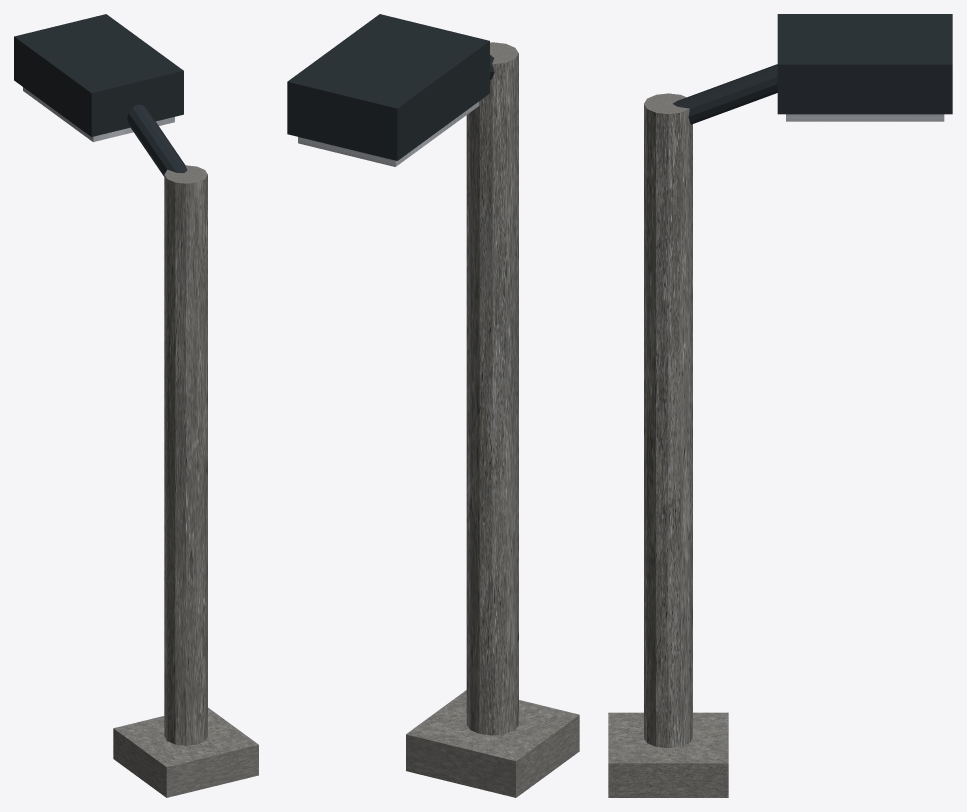
File: faro.obj
3 views of the same model, side by side, from view 1: azimuth 30°, elevation 25°; view 2: azimuth 150°, elevation 25°; view 3: azimuth 270°, elevation 25° (orthographic). The views are drawn at different scales.
Parts seen in each view (by area): view 1: Base_y_poste_concreto, Brazo_y_carcasa, Lente_vidrio_prismatico; view 2: Base_y_poste_concreto, Brazo_y_carcasa, Lente_vidrio_prismatico; view 3: Base_y_poste_concreto, Brazo_y_carcasa, Lente_vidrio_prismatico.
Part boxes in pixels (x1=…): Base_y_poste_concreto: x1=113, y1=165, x2=258, y2=797; Brazo_y_carcasa: x1=14, y1=14, x2=187, y2=176; Lente_vidrio_prismatico: x1=23, y1=87, x2=174, y2=141; Base_y_poste_concreto: x1=406, y1=42, x2=579, y2=797; Brazo_y_carcasa: x1=287, y1=14, x2=494, y2=160; Lente_vidrio_prismatico: x1=298, y1=101, x2=479, y2=166; Base_y_poste_concreto: x1=608, y1=93, x2=728, y2=797; Brazo_y_carcasa: x1=673, y1=14, x2=952, y2=124; Lente_vidrio_prismatico: x1=786, y1=114, x2=944, y2=121.
Size of the model in its own units: 0.22 by 1.48 by 0.63.
Materials: 3 (2 with a texture image).
